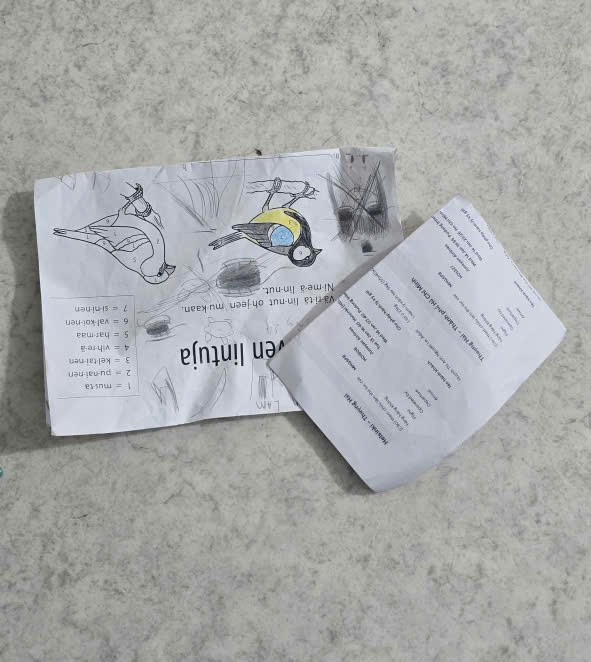paper: (29, 141, 573, 499)
